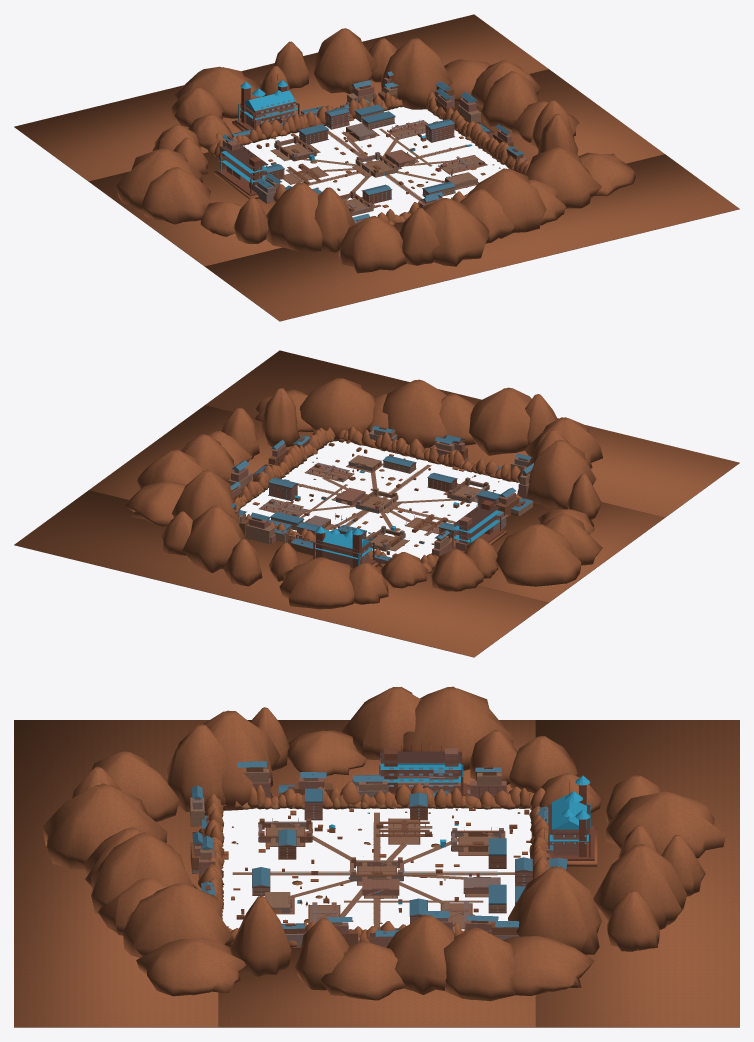
File: kyokoku-lod0.glb
3 views of the same model, one above another, from view 1: azimuth 30°, elevation 25°; view 2: azimuth 150°, elevation 25°; view 3: azimuth 270°, elevation 25° (orthographic). The views are drawn at different scales.
Visible parts, largest first — view 1: HB_kyokoku_LOD0_terrain, HB_kyokoku_LOD0_road, HB_kyokoku_LOD0_roof, HB_kyokoku_LOD0_wall, HB_kyokoku_LOD0_wall_warm, HB_kyokoku_LOD0_wall_weathered, HB_kyokoku_LOD0_trim, HB_kyokoku_LOD0_wall_cool, HB_kyokoku_LOD0_wall_alt, HB_kyokoku_LOD0_LANDMARK_0_accent, HB_kyokoku_LOD0_LANDMARK_1_trim, HB_kyokoku_LOD0_LANDMARK_1_wall_alt; view 2: HB_kyokoku_LOD0_terrain, HB_kyokoku_LOD0_wall, HB_kyokoku_LOD0_road, HB_kyokoku_LOD0_roof, HB_kyokoku_LOD0_wall_warm, HB_kyokoku_LOD0_wall_weathered, HB_kyokoku_LOD0_wall_cool, HB_kyokoku_LOD0_trim, HB_kyokoku_LOD0_wall_alt, HB_kyokoku_LOD0_LANDMARK_0_accent, HB_kyokoku_LOD0_LANDMARK_1_trim, HB_kyokoku_LOD0_LANDMARK_0_wall_alt (+2 smaller); view 3: HB_kyokoku_LOD0_terrain, HB_kyokoku_LOD0_road, HB_kyokoku_LOD0_roof, HB_kyokoku_LOD0_wall, HB_kyokoku_LOD0_wall_weathered, HB_kyokoku_LOD0_wall_warm, HB_kyokoku_LOD0_wall_cool, HB_kyokoku_LOD0_trim, HB_kyokoku_LOD0_wall_alt, HB_kyokoku_LOD0_LANDMARK_0_accent, HB_kyokoku_LOD0_LANDMARK_1_trim, HB_kyokoku_LOD0_natural (+5 smaller).
Boxes of the visible parts, <box> form: HB_kyokoku_LOD0_terrain: <box>14,14,739,321</box>; HB_kyokoku_LOD0_road: <box>272,122,486,209</box>; HB_kyokoku_LOD0_roof: <box>222,71,524,220</box>; HB_kyokoku_LOD0_wall: <box>219,78,511,207</box>; HB_kyokoku_LOD0_wall_warm: <box>222,86,509,221</box>; HB_kyokoku_LOD0_wall_weathered: <box>225,75,523,211</box>; HB_kyokoku_LOD0_trim: <box>241,94,507,213</box>; HB_kyokoku_LOD0_wall_cool: <box>252,90,527,224</box>; HB_kyokoku_LOD0_wall_alt: <box>227,104,518,207</box>; HB_kyokoku_LOD0_LANDMARK_0_accent: <box>238,80,297,120</box>; HB_kyokoku_LOD0_LANDMARK_1_trim: <box>221,142,268,184</box>; HB_kyokoku_LOD0_LANDMARK_1_wall_alt: <box>217,156,262,196</box>; HB_kyokoku_LOD0_terrain: <box>14,350,739,657</box>; HB_kyokoku_LOD0_wall: <box>231,442,529,565</box>; HB_kyokoku_LOD0_road: <box>260,464,479,550</box>; HB_kyokoku_LOD0_roof: <box>230,425,533,560</box>; HB_kyokoku_LOD0_wall_warm: <box>228,430,532,551</box>; HB_kyokoku_LOD0_wall_weathered: <box>231,438,531,555</box>; HB_kyokoku_LOD0_wall_cool: <box>234,430,529,554</box>; HB_kyokoku_LOD0_trim: <box>235,435,523,559</box>; HB_kyokoku_LOD0_wall_alt: <box>259,426,525,557</box>; HB_kyokoku_LOD0_LANDMARK_0_accent: <box>315,520,372,565</box>; HB_kyokoku_LOD0_LANDMARK_1_trim: <box>453,502,500,543</box>; HB_kyokoku_LOD0_LANDMARK_0_wall_alt: <box>311,532,375,569</box>; HB_kyokoku_LOD0_terrain: <box>14,686,739,1027</box>; HB_kyokoku_LOD0_road: <box>232,812,514,929</box>; HB_kyokoku_LOD0_roof: <box>192,761,567,936</box>; HB_kyokoku_LOD0_wall: <box>194,776,553,947</box>; HB_kyokoku_LOD0_wall_weathered: <box>190,767,566,946</box>; HB_kyokoku_LOD0_wall_warm: <box>190,769,505,943</box>; HB_kyokoku_LOD0_wall_cool: <box>192,775,552,947</box>; HB_kyokoku_LOD0_trim: <box>192,775,561,936</box>; HB_kyokoku_LOD0_wall_alt: <box>197,766,559,928</box>; HB_kyokoku_LOD0_LANDMARK_0_accent: <box>549,775,590,841</box>; HB_kyokoku_LOD0_LANDMARK_1_trim: <box>380,744,461,787</box>; HB_kyokoku_LOD0_natural: <box>224,797,529,924</box>.
Bounding box in the file's own units: 746 × 85.99 × 746.
Materials: 13 (12 with a texture image).
